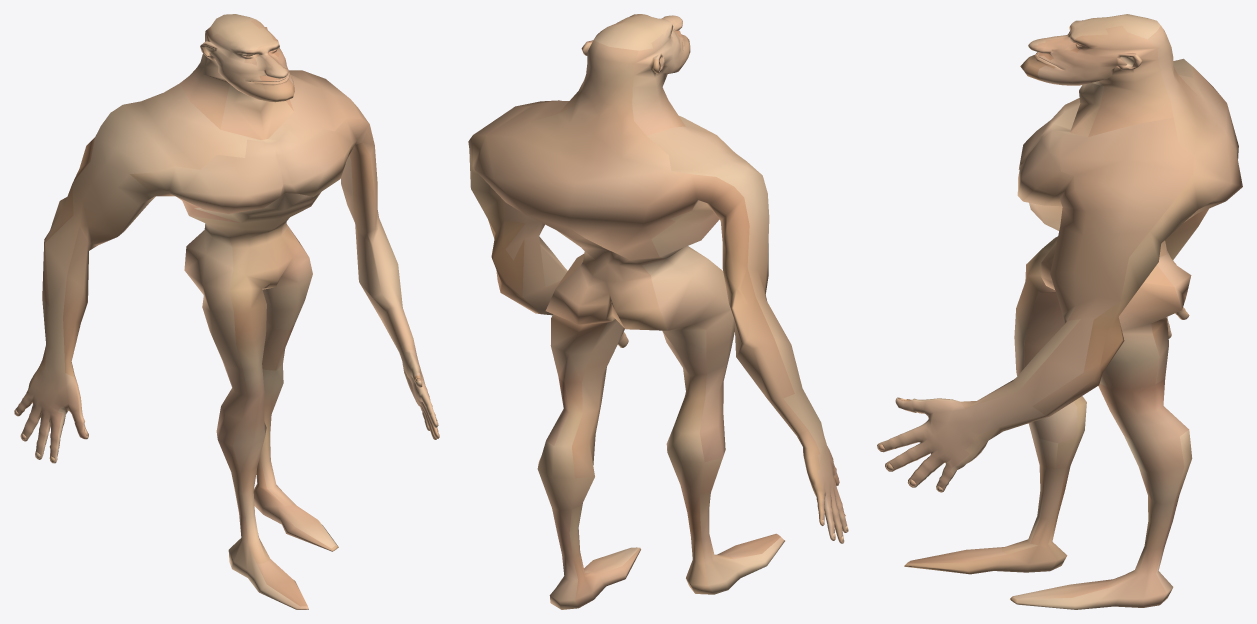
The picture shows the model from 3 angles, left to right: view 1: azimuth 30°, elevation 25°; view 2: azimuth 150°, elevation 25°; view 3: azimuth 270°, elevation 25°; orthographic projection. The views are drawn at different scales.
Parts seen in each view (by area): view 1: soldiersoldier120; view 2: soldiersoldier120; view 3: soldiersoldier120.
Part boxes in pixels (bbox=[...]): soldiersoldier120: bbox=[14, 14, 439, 609]; soldiersoldier120: bbox=[468, 14, 848, 609]; soldiersoldier120: bbox=[877, 14, 1242, 609].
Size of the model in its own units: 3.01 by 4.39 by 2.58.
1 material, 1 textured.
